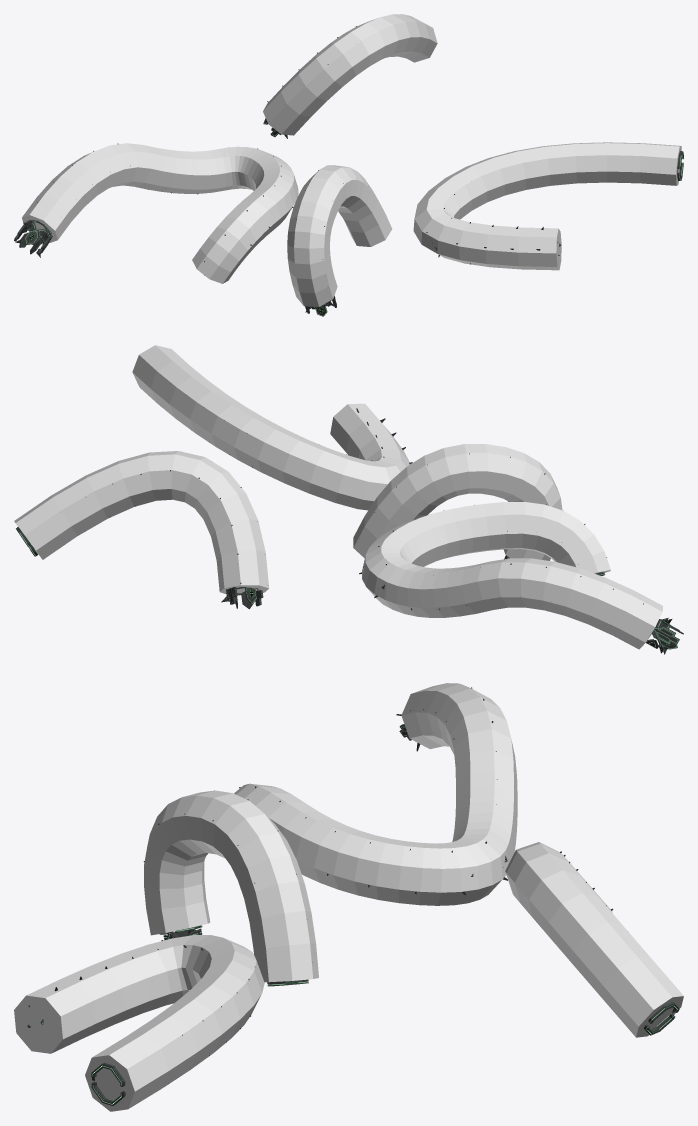
Rendered from GrassyWyrm.fbx.
3 renders of one model, top to bottom at view 1: azimuth 30°, elevation 25°; view 2: azimuth 150°, elevation 25°; view 3: azimuth 270°, elevation 25°, orthographic. The views are drawn at different scales.
Visible parts, largest first — view 1: GrassyWyrmModel.005, GrassyWyrmModel; view 2: GrassyWyrmModel.005, GrassyWyrmModel; view 3: GrassyWyrmModel.005, GrassyWyrmModel.
Boxes of the visible parts, <box> form: GrassyWyrmModel.005: <box>22,14,681,306</box>; GrassyWyrmModel: <box>14,26,683,316</box>; GrassyWyrmModel.005: <box>14,345,663,649</box>; GrassyWyrmModel: <box>16,395,683,654</box>; GrassyWyrmModel.005: <box>14,683,683,1111</box>; GrassyWyrmModel: <box>27,683,679,1105</box>.
Size of the model in its own units: 1693 by 459 by 1167.
Materials: 3 (2 with a texture image).
